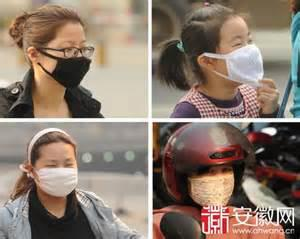OK: (207, 32, 265, 85), (46, 43, 92, 89), (189, 166, 234, 212), (34, 153, 77, 195)
